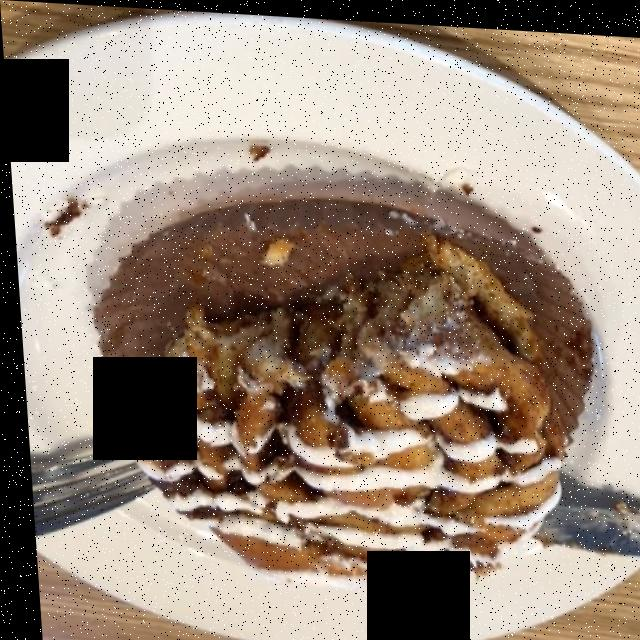sugar-glazing: (147, 369, 542, 570)
tart: (118, 229, 582, 566)
